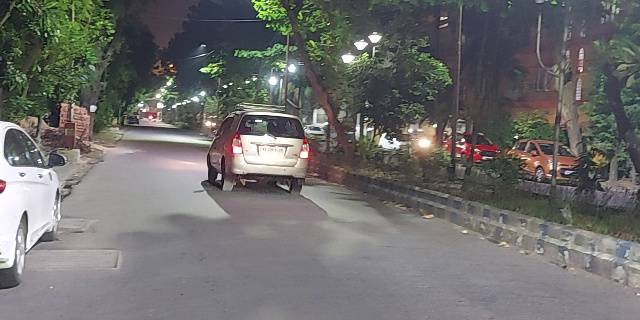Car: (206, 102, 310, 195)
